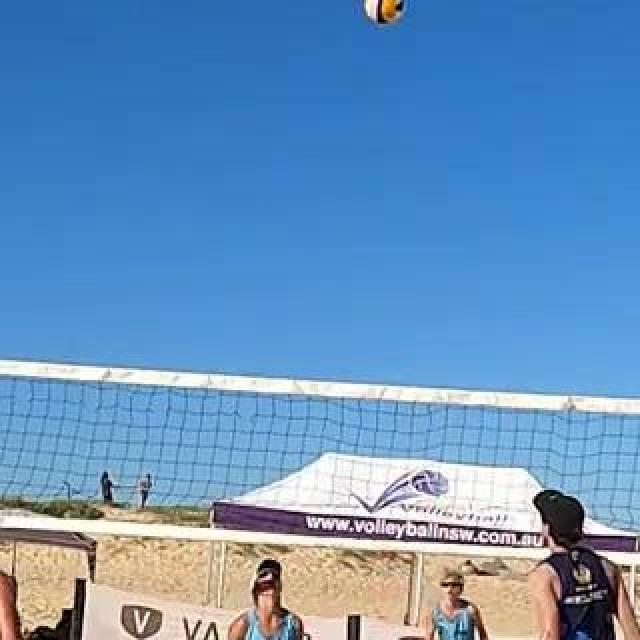volleyball: (365, 1, 403, 25)
